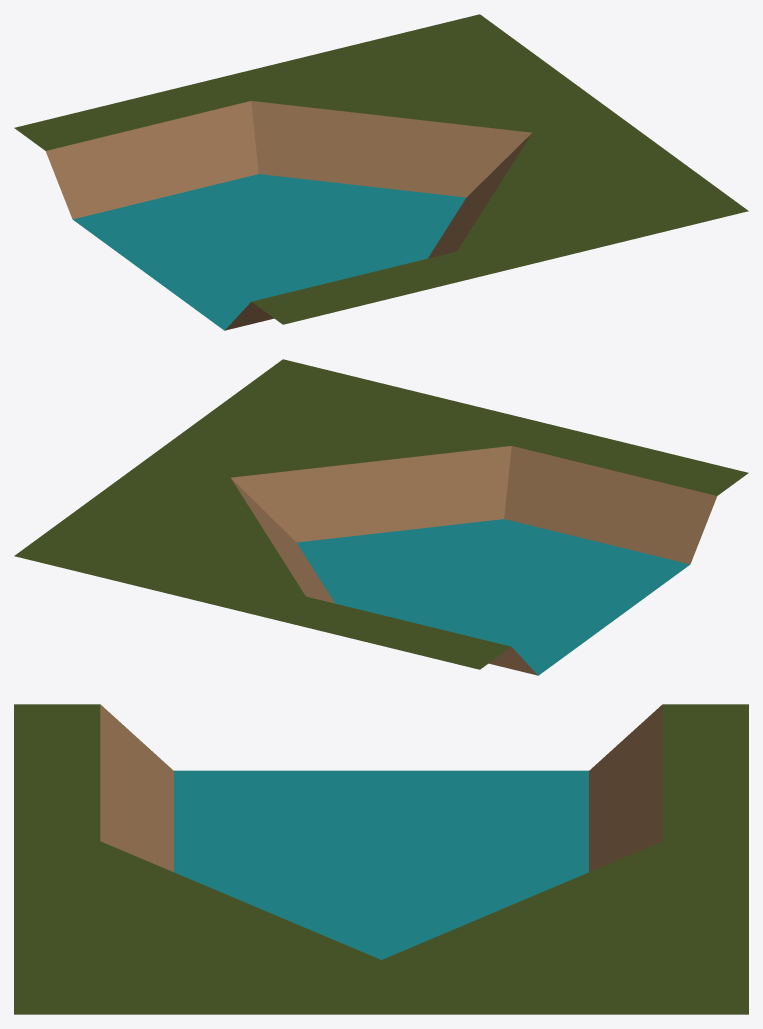
File: TB_Env_River_N.FBX
The picture shows the model from 3 angles, top to bottom: view 1: azimuth 30°, elevation 25°; view 2: azimuth 150°, elevation 25°; view 3: azimuth 270°, elevation 25°; orthographic projection. The views are drawn at different scales.
Parts seen in each view (by area): view 1: TB_Env_River_N; view 2: TB_Env_River_N; view 3: TB_Env_River_N.
Part boxes in pixels (left/top/right/bottom): TB_Env_River_N: left=14, top=14, right=748, bottom=330; TB_Env_River_N: left=14, top=359, right=748, bottom=675; TB_Env_River_N: left=14, top=704, right=748, bottom=1014.
Size of the model in its own units: 10 by 1 by 10.
1 material, 1 textured.
